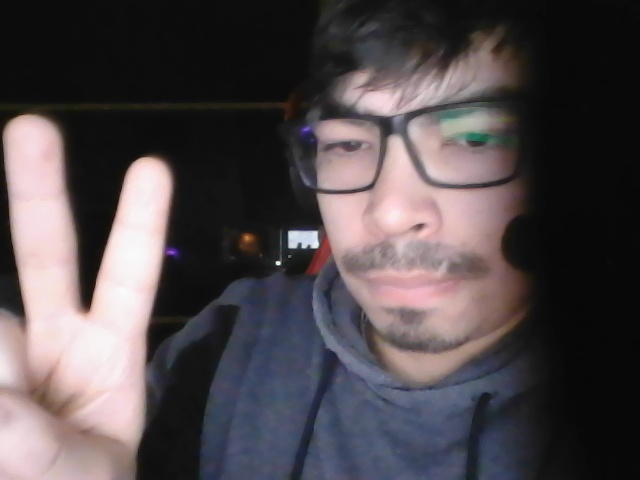two: (1, 96, 191, 480)
